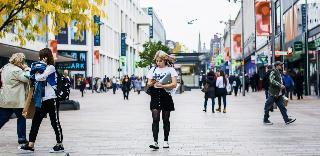person - v3 P: (18, 49, 64, 152), (148, 51, 177, 148), (0, 53, 30, 143), (264, 62, 295, 124), (203, 71, 216, 112), (216, 71, 229, 112), (262, 66, 272, 99), (283, 71, 294, 97), (295, 71, 304, 99), (122, 76, 130, 99), (311, 71, 318, 95), (234, 74, 240, 96), (135, 77, 141, 94), (254, 72, 259, 91), (80, 78, 85, 97), (250, 75, 255, 91), (112, 76, 116, 94), (245, 74, 249, 92), (64, 70, 70, 80), (131, 75, 135, 89), (106, 78, 110, 90), (199, 74, 202, 88), (117, 78, 120, 89)
